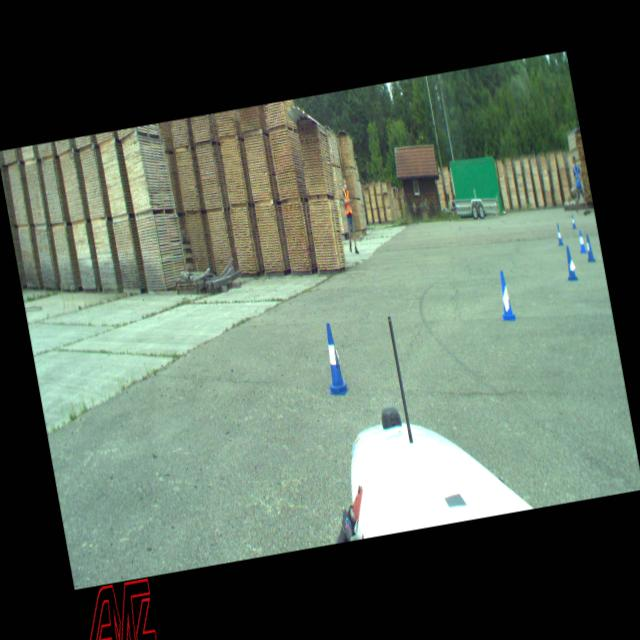blue_cone: (317, 322, 349, 396), (494, 270, 516, 322), (562, 244, 578, 280), (583, 234, 595, 261), (576, 229, 586, 253), (554, 222, 563, 245), (570, 214, 576, 228)
